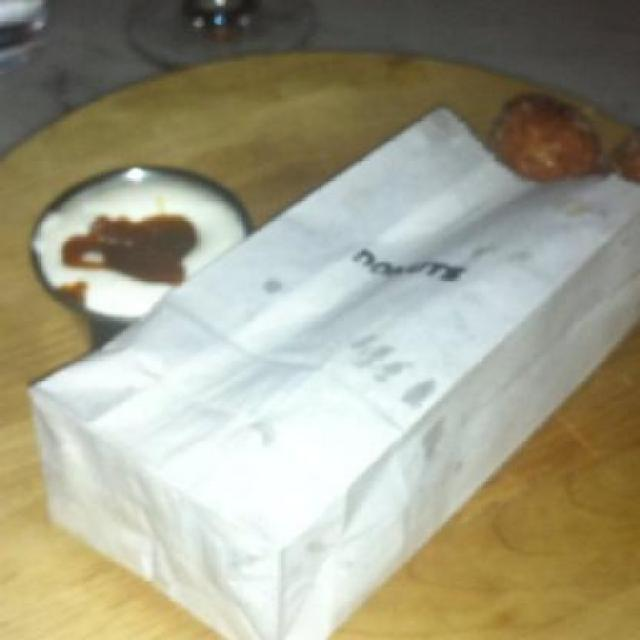Donuts: (502, 89, 610, 202)
